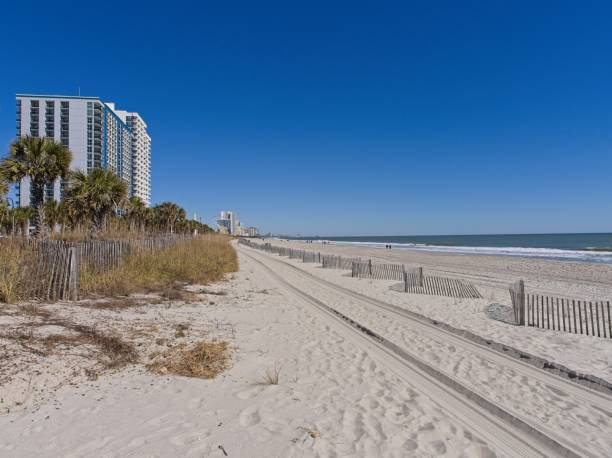vehicle_track: (243, 251, 589, 456), (271, 257, 611, 415)
